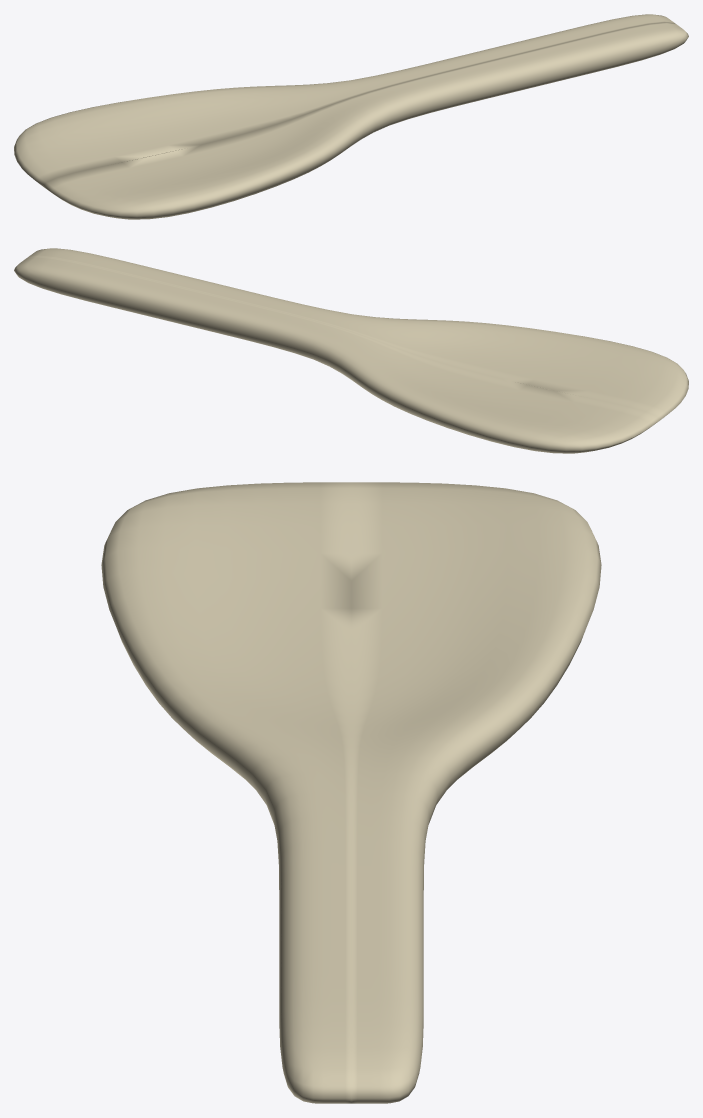
File: ricePaddle.fbx
3 renders of one model, top to bottom at view 1: azimuth 30°, elevation 25°; view 2: azimuth 150°, elevation 25°; view 3: azimuth 270°, elevation 25°, orthographic. The views are drawn at different scales.
Parts seen in each view (by area): view 1: ricepaddle; view 2: ricepaddle; view 3: ricepaddle.
Boxes of the visible parts, box(x1,y1,x2,y2) form: ricepaddle: box(14, 14, 688, 219); ricepaddle: box(14, 248, 688, 453); ricepaddle: box(101, 482, 601, 1103).
Size of the model in its own units: 596 by 33.53 by 203.
